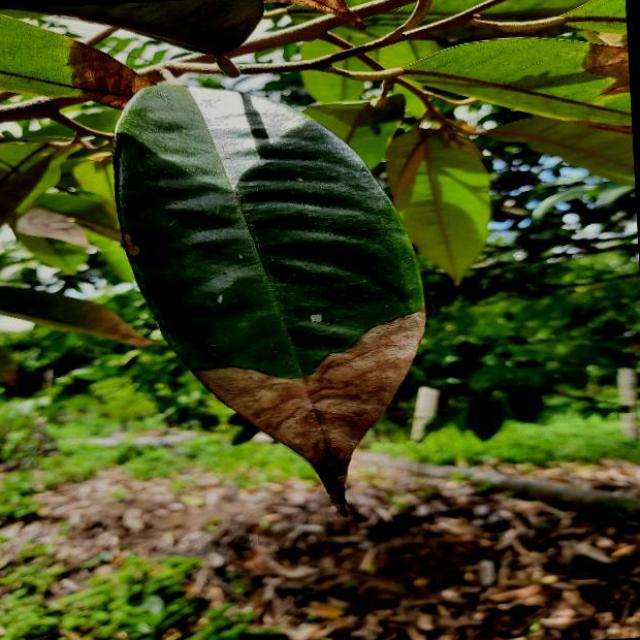Leaf Blight: (97, 59, 444, 515)
